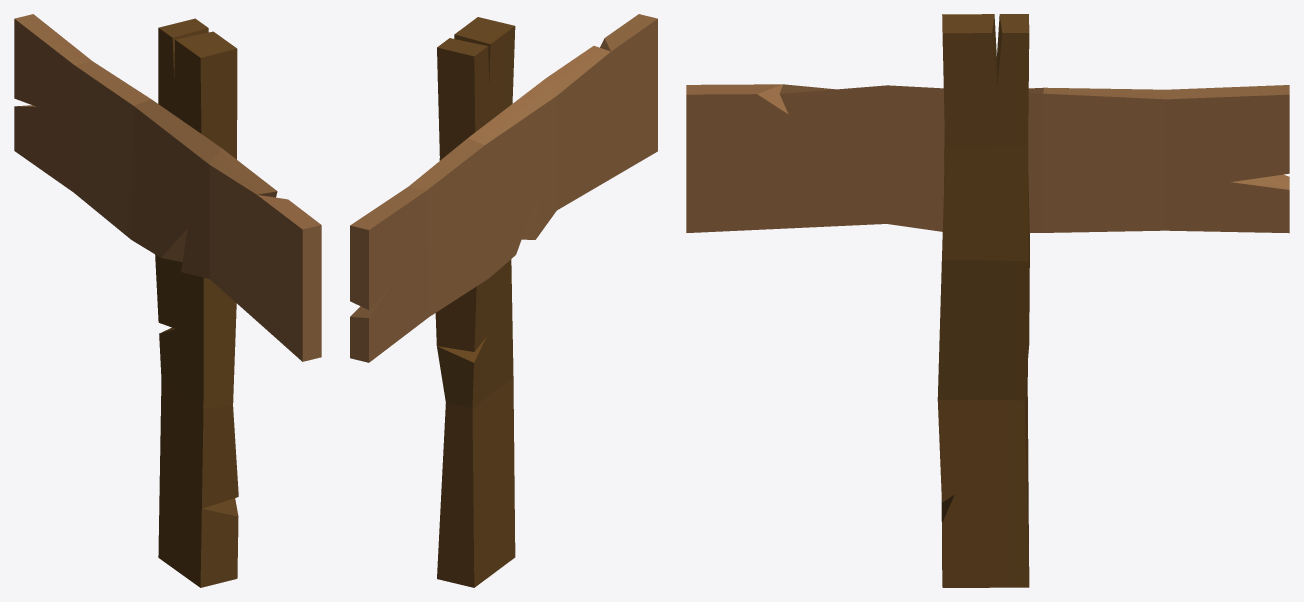
File: Panneau.fbx
The picture shows the model from 3 angles, left to right: view 1: azimuth 30°, elevation 25°; view 2: azimuth 150°, elevation 25°; view 3: azimuth 270°, elevation 25°; orthographic projection. The views are drawn at different scales.
Visible parts, largest first — view 1: Panneau; view 2: Panneau; view 3: Panneau.
Part boxes in pixels (box(x1,y1,x2,y2)): Panneau: box(14, 14, 321, 587); Panneau: box(350, 14, 657, 587); Panneau: box(686, 14, 1289, 587).
Size of the model in its own units: 26.86 by 220 by 217.
